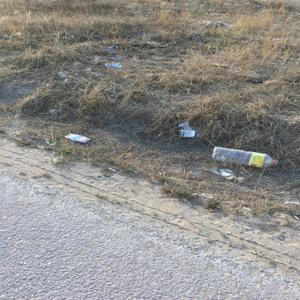plastic: (66, 128, 94, 143), (178, 119, 197, 140)
plastic bottle: (210, 145, 282, 169)
